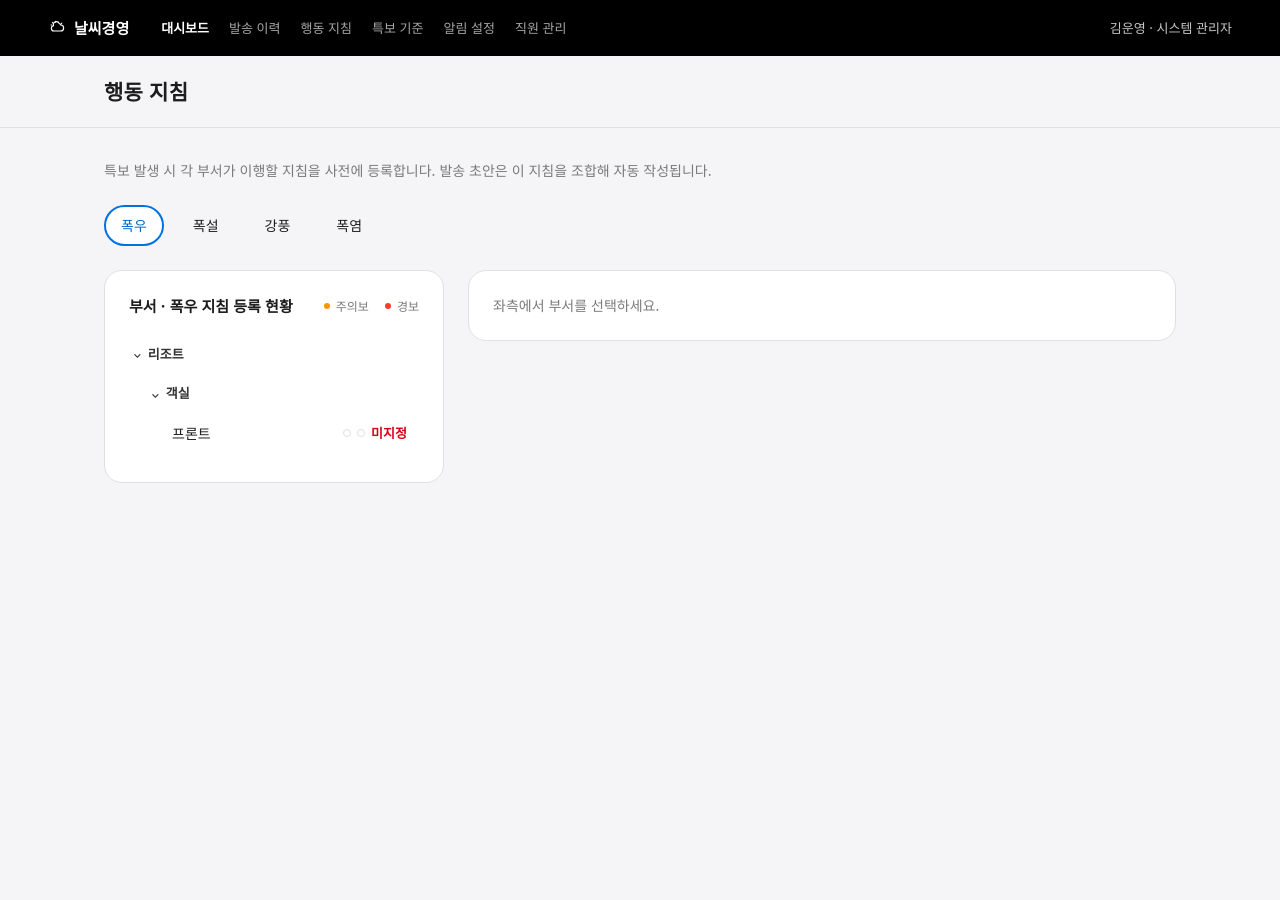
it: Guidelines › 3단 부서를 지침 등록 가능한 리프로 보여준다
Click the button "프론트 미지정" at (191, 432), box top-left (129, 412), bottom-right (419, 454)
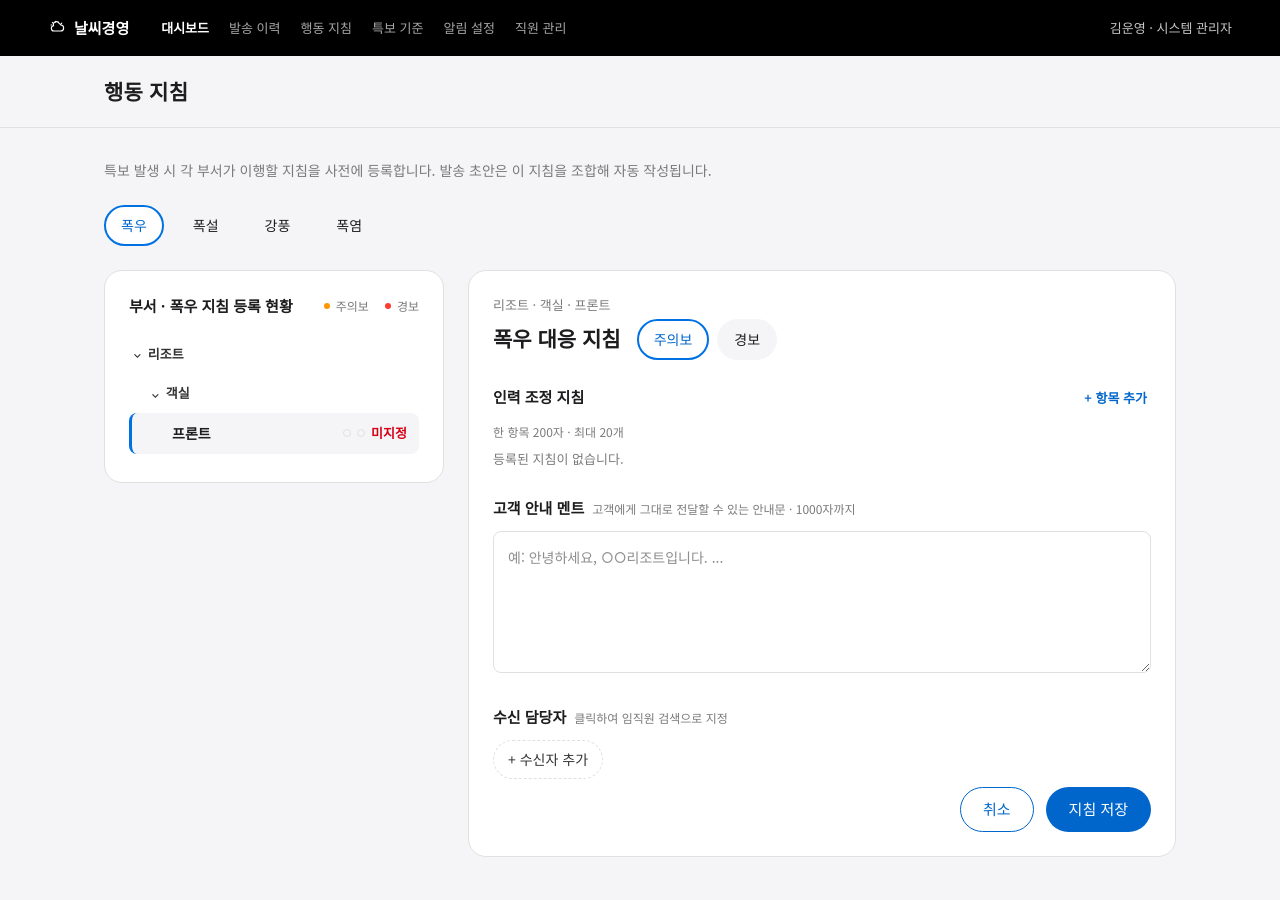
expect the text "리조트 · 객실 · 프론트" is shown: met, box top-left (493, 295), bottom-right (610, 314)
